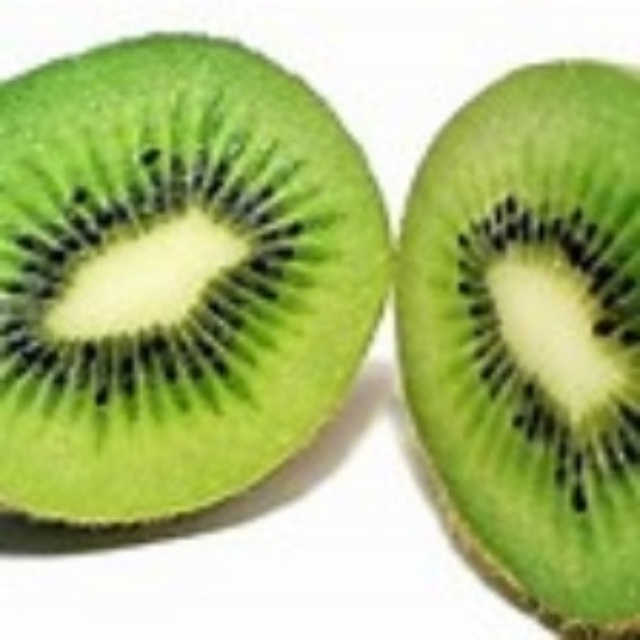kiwi: (3, 38, 380, 535), (393, 52, 637, 636)
